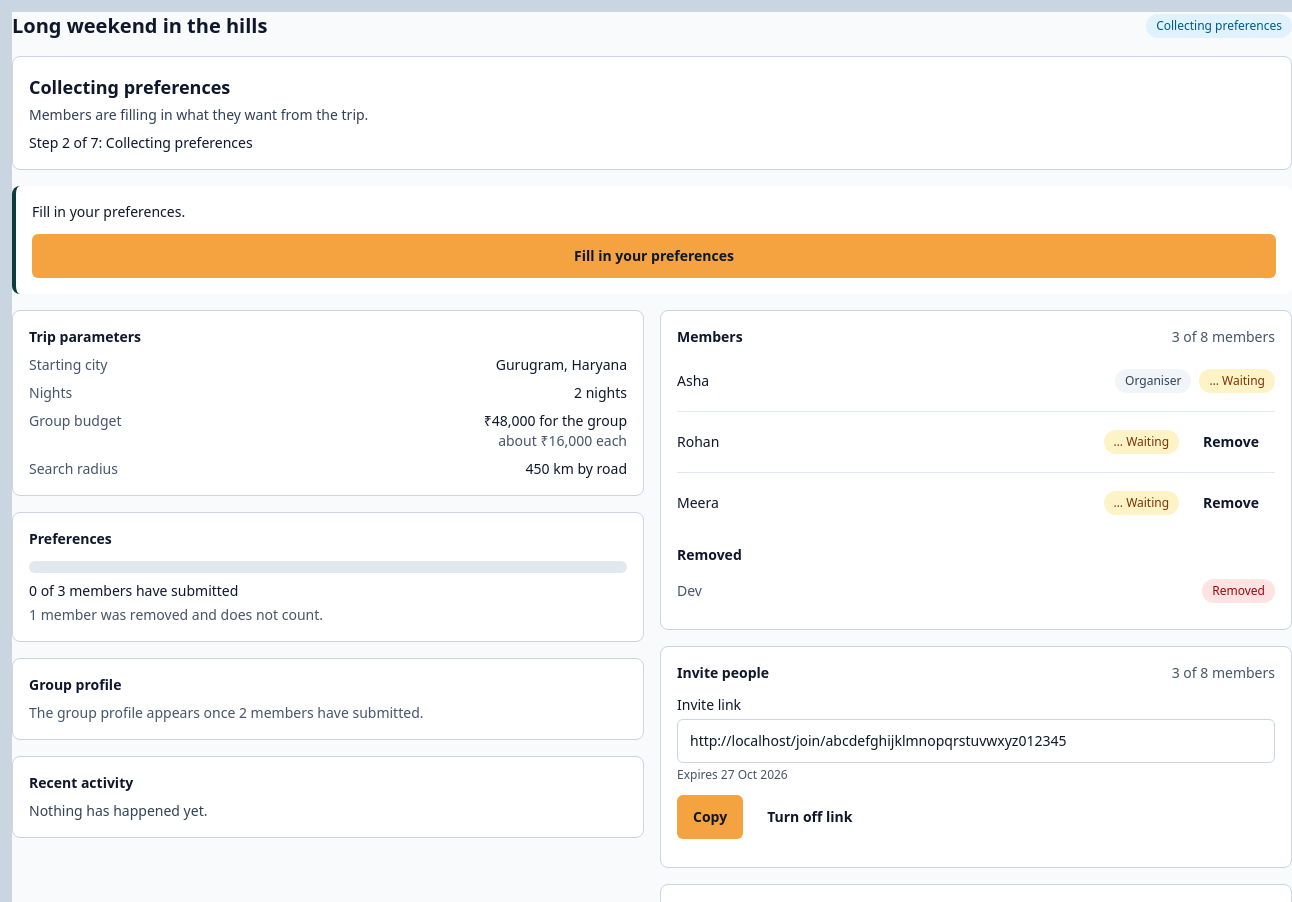
Scenario: TripPage invite panel › Copy writes the full join URL to the clipboard and announces "Link copied"
Expected: the text "Expires 27 Oct 2026" is shown, [677,766,788,783]
Expected: the 1st text "3 of 8 members" is shown, [1172,327,1275,347]
Click the button "Copy" at (710, 817), box [677,795,743,839]
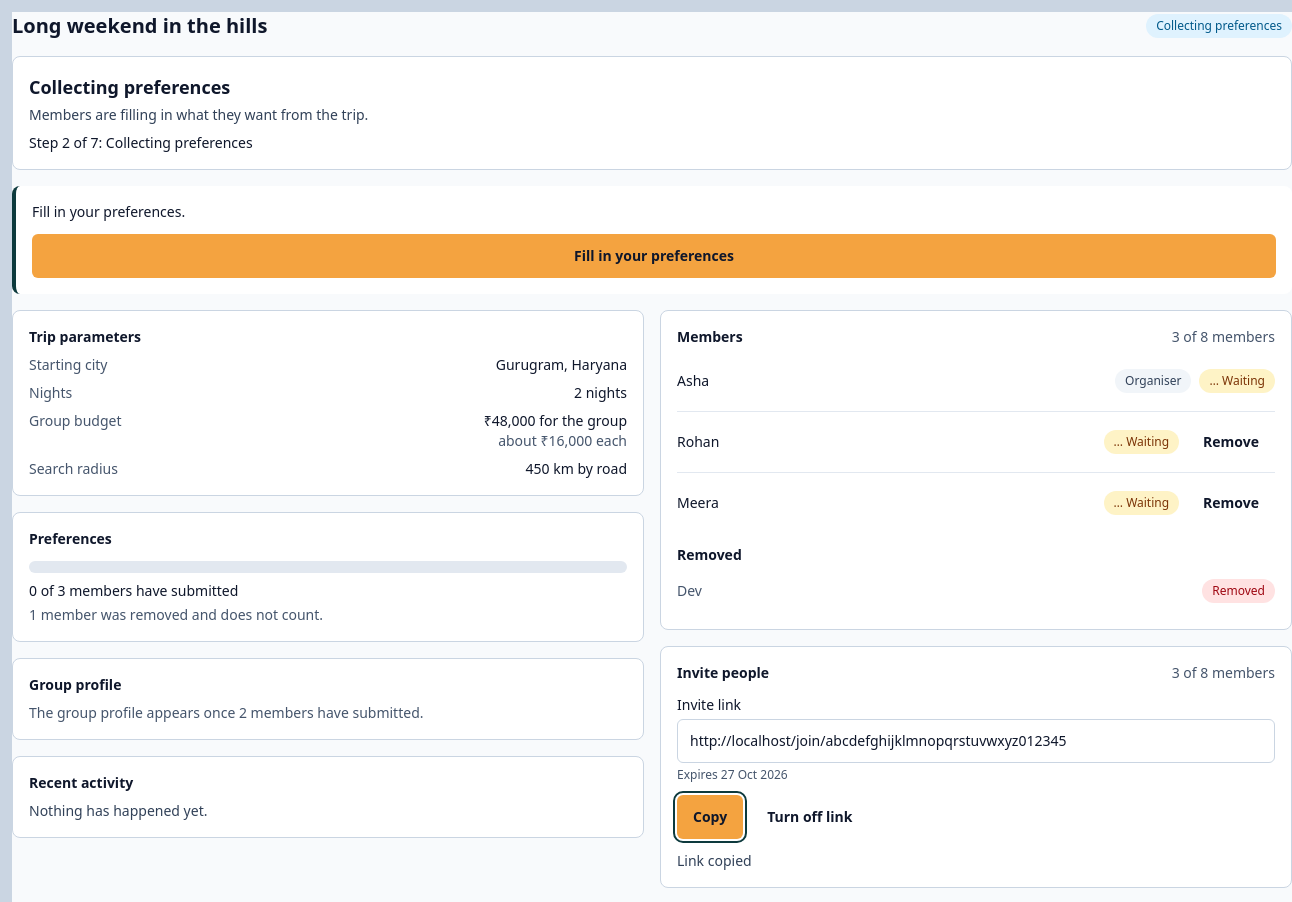
Result: the message reads "Link copied" at [677,851,752,870]
